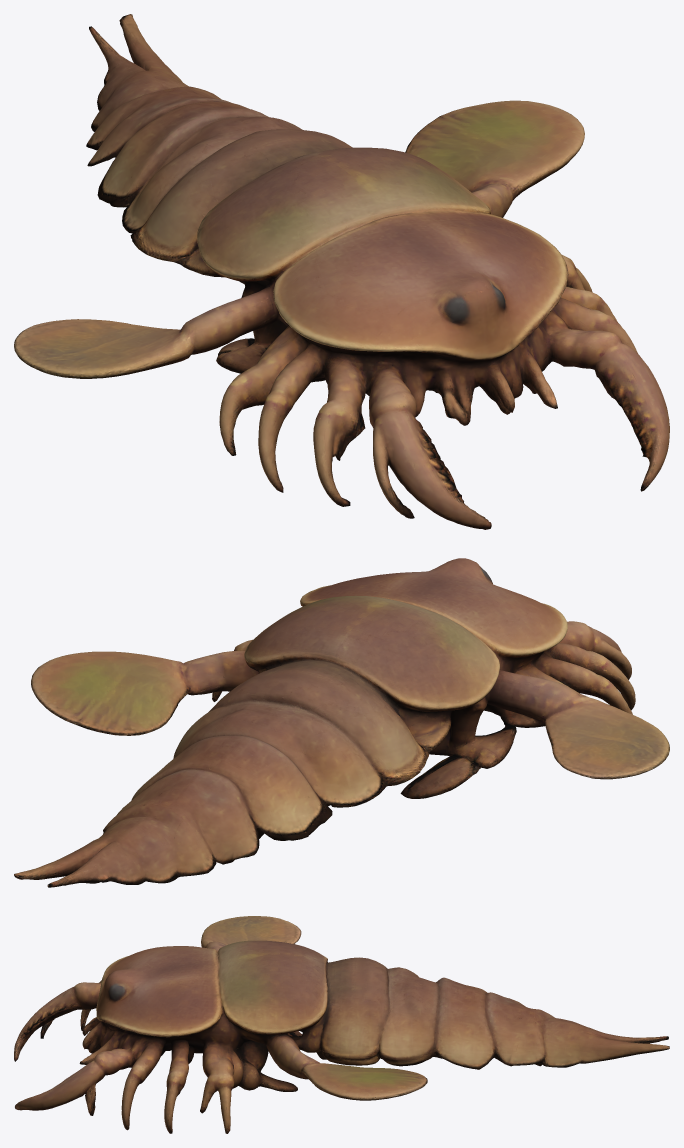
3 views of the same model, one above another, from view 1: azimuth 30°, elevation 25°; view 2: azimuth 150°, elevation 25°; view 3: azimuth 270°, elevation 25° (orthographic). The views are drawn at different scales.
Visible parts, largest first — view 1: world; view 2: world; view 3: world.
Part boxes in pixels (box(x1,y1,x2,y2)): world: box(14, 14, 669, 529); world: box(14, 558, 669, 887); world: box(14, 916, 669, 1133).
Bounding box in the file's own units: 0.3846 × 0.1147 × 0.54.
1 material, 1 textured.
